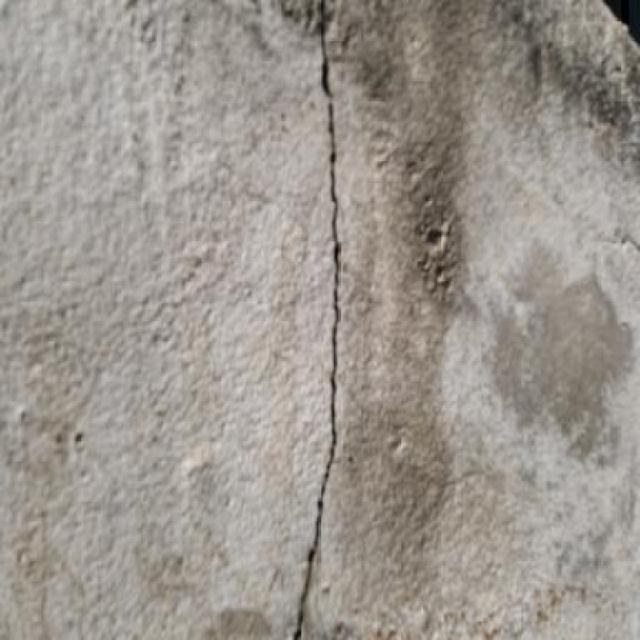vertical crack: (293, 1, 341, 639)
